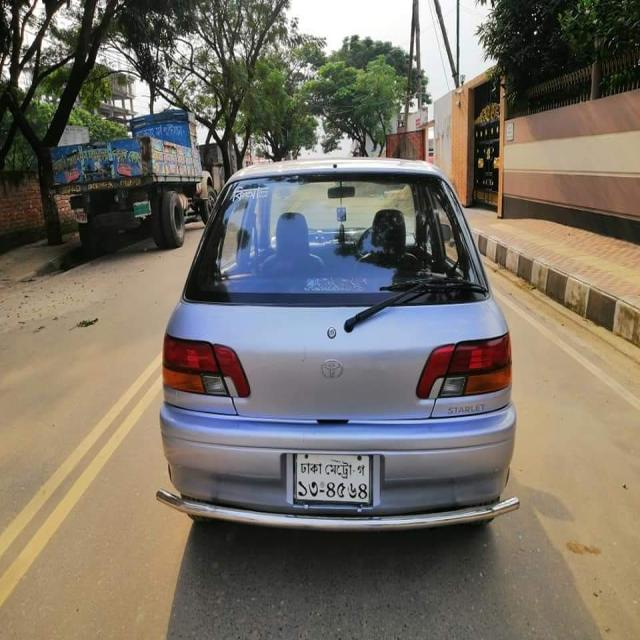silver: (164, 144, 515, 564)
